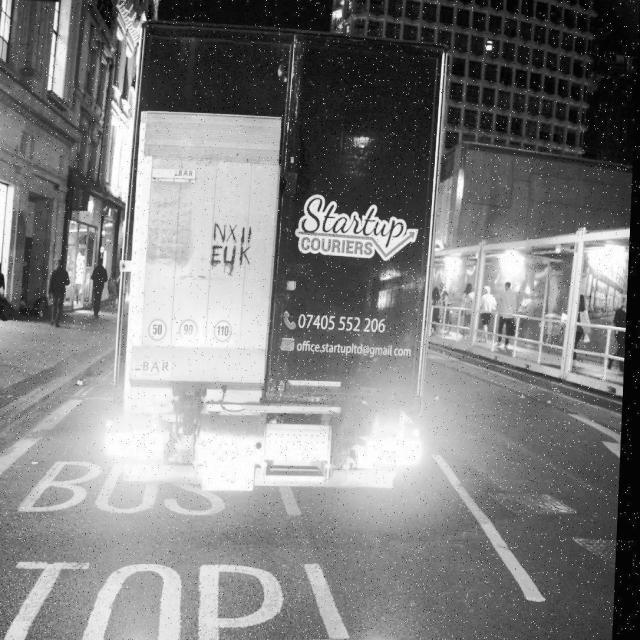Truck: (119, 19, 453, 498)
